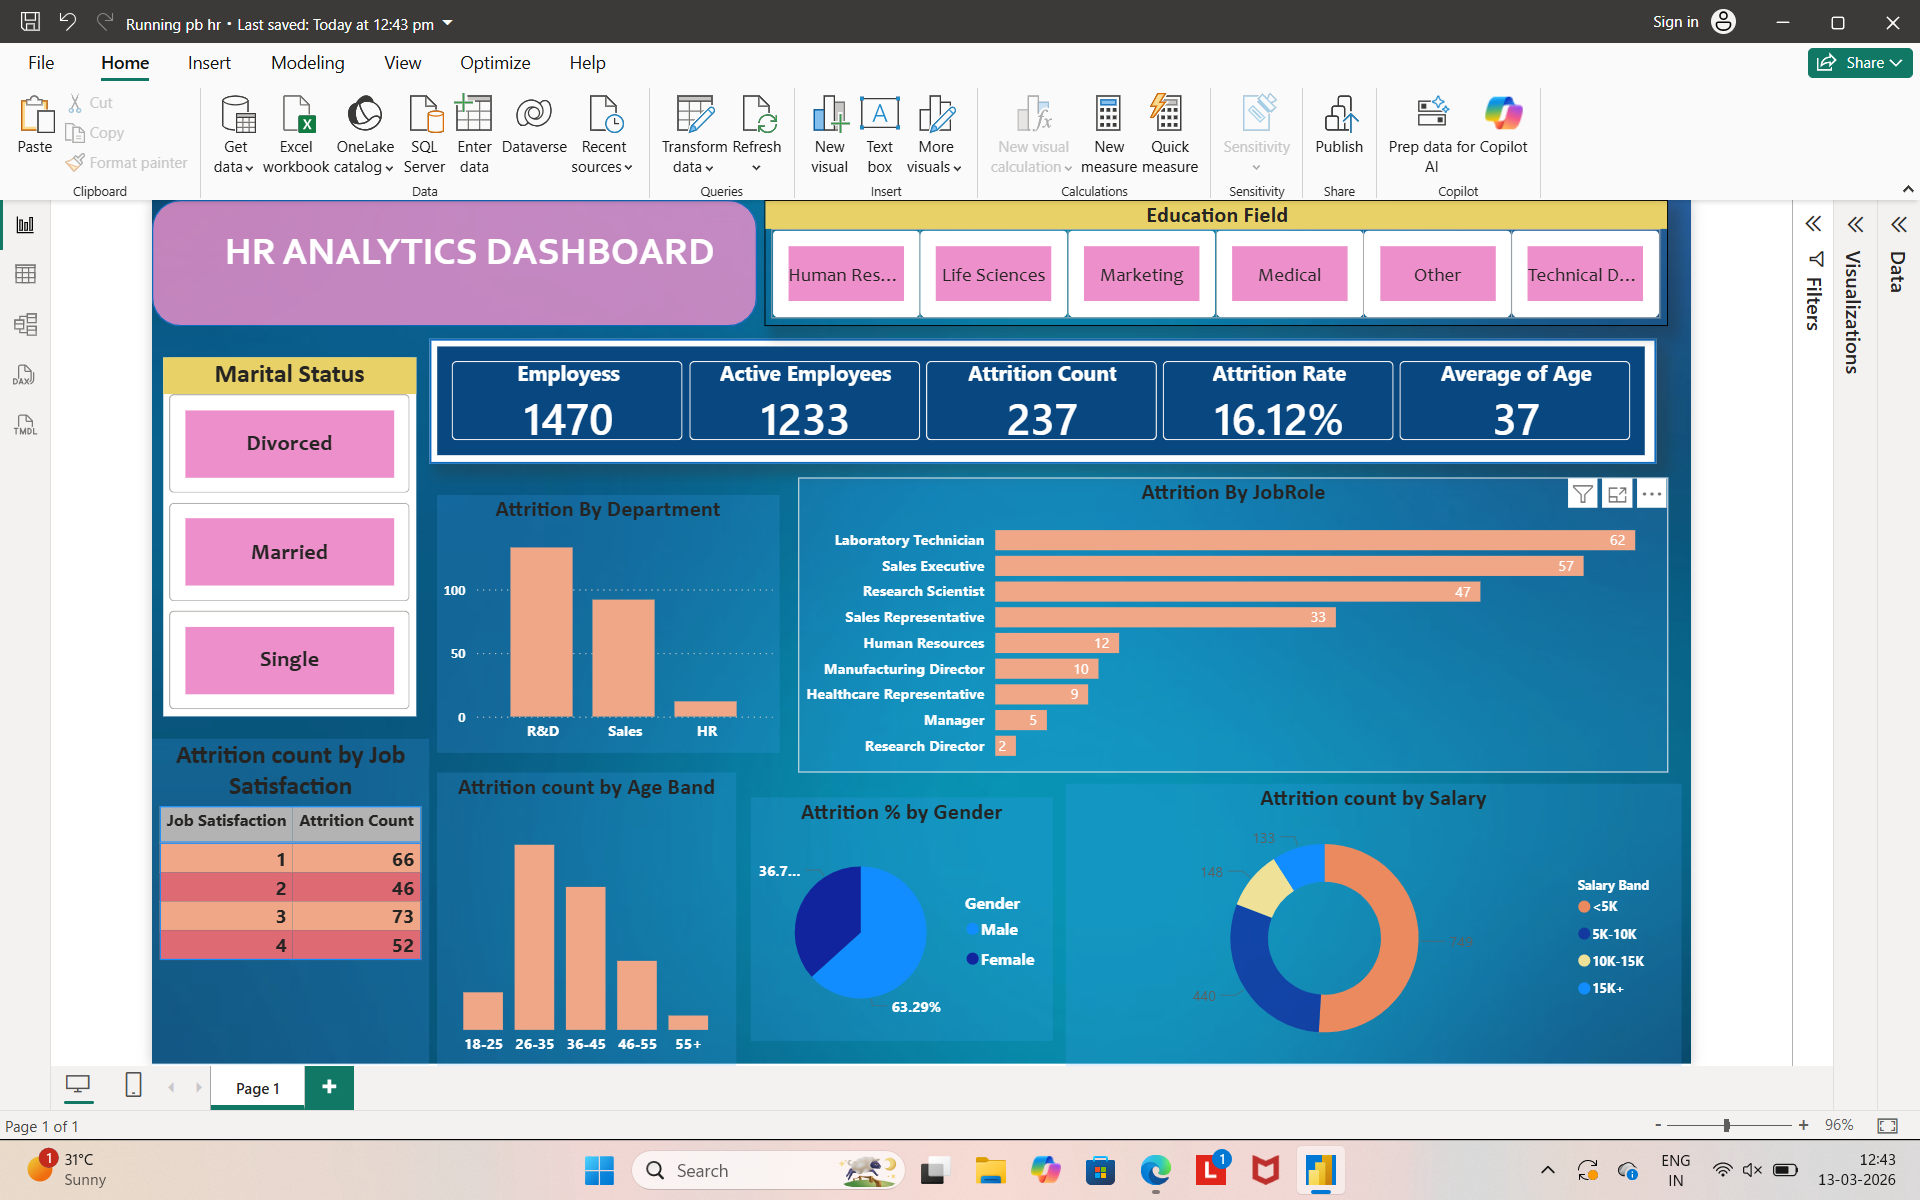

Layout of this report page (visuals, bound fields, positions):
{"tool":"powerbi","page":{"name":"Page 1","canvas":[1280,720],"ordinal":0},"visuals":[{"type":"cardVisual","fields":{"Data":["Sum(HR data.Employee Count)","HR data.Active Employees","HR data.Attrition Count","HR data.Attrition Rate","Avg(HR data.Age)"]},"box":[230.5,115.8,1019.7,104],"z":0},{"type":"columnChart","title":"Attrition By Department","fields":{"Category":["HR data.Department"],"Y":["HR data.Attrition Count"]},"box":[236.7,245.6,284.4,214.4],"z":1000},{"type":"barChart","title":"Attrition By JobRole","fields":{"Y":["HR data.Attrition Count"],"Category":["HR data.Job Role"]},"box":[537.2,230.5,723.7,245.5],"z":2000},{"type":"columnChart","title":" Attrition count by Age Band","fields":{"Y":["CountNonNull(HR data.Attrition)"],"Category":["HR data.Age Band"]},"box":[237.2,475.6,248.8,244.2],"z":3000},{"type":"donutChart","title":" Attrition count by Salary","fields":{"Y":["CountNonNull(HR data.Attrition)"],"Category":["HR data.Salary Band"]},"box":[759.3,484.9,511.6,234.9],"z":4000},{"type":"pieChart","title":" Attrition % by Gender","fields":{"Category":["HR data.Gender"],"Y":["HR data.Attrition Count"]},"box":[497.7,496.5,251.2,202.3],"z":5000},{"type":"shape","box":[0,0,503,105],"z":6000},{"type":"textbox","box":[18.9,17.8,491.1,130],"z":7000},{"type":"tableEx","title":" Attrition count by Job Satisfaction","fields":{"Values":["HR data.Job Satisfaction","HR data.Attrition Count"]},"box":[0,448.2,230.5,271.3],"z":8000},{"type":"advancedSlicerVisual","fields":{"Values":["HR data.Marital Status"]},"box":[9.8,130.7,210.1,298.1],"z":9000},{"type":"advancedSlicerVisual","fields":{"Values":["HR data.Education Field"]},"box":[509.4,0,751.3,105.1],"z":9001}]}

Visuals, with their boxes on the page's 1280x720 design canvas (x1, y1, x2, y2). These are canvas units, not pixel positions in the 1920x1200 screenshot, which may show the page scaled, cropped or inside an application window:
cardVisual - Sum(HR data.Employee Count) x HR data.Active Employees: crop(230, 116, 1250, 220)
"Attrition By Department" columnChart: crop(237, 246, 521, 460)
"Attrition By JobRole" barChart: crop(537, 230, 1261, 476)
" Attrition count by Age Band" columnChart: crop(237, 476, 486, 720)
" Attrition count by Salary" donutChart: crop(759, 485, 1271, 720)
" Attrition % by Gender" pieChart: crop(498, 496, 749, 699)
shape: crop(0, 0, 503, 105)
textbox: crop(19, 18, 510, 148)
" Attrition count by Job Satisfaction" tableEx: crop(0, 448, 230, 720)
advancedSlicerVisual - HR data.Marital Status: crop(10, 131, 220, 429)
advancedSlicerVisual - HR data.Education Field: crop(509, 0, 1261, 105)
